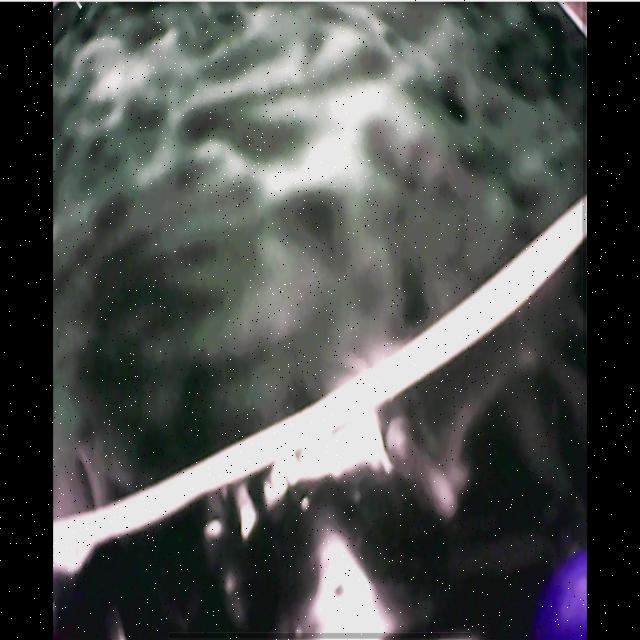ball: (541, 553, 587, 640)
